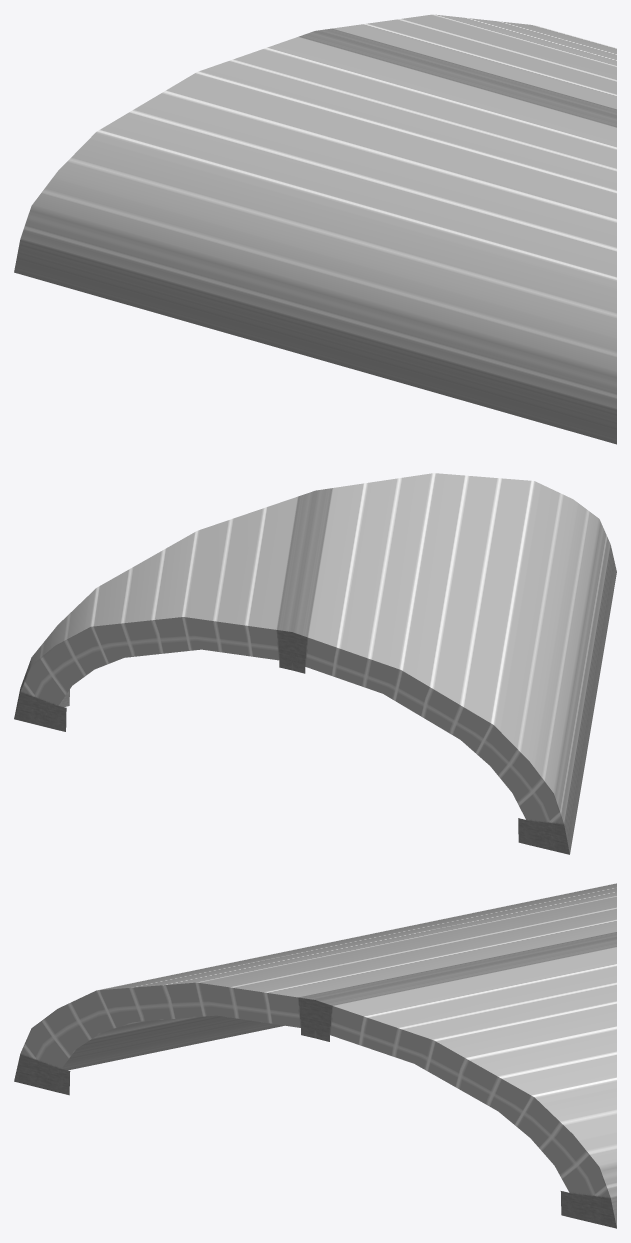
The model's file is Mall_Corner.fbx.
3 renders of one model, top to bottom at view 1: azimuth 30°, elevation 25°; view 2: azimuth 150°, elevation 25°; view 3: azimuth 270°, elevation 25°, orthographic. The views are drawn at different scales.
Visible parts, largest first — view 1: pasted__h; view 2: pasted__h; view 3: pasted__h.
Boxes of the visible parts, <box> form: pasted__h: <box>14,14,616,444</box>; pasted__h: <box>14,473,616,854</box>; pasted__h: <box>14,883,616,1228</box>.
Size of the model in its own units: 17.69 by 4.72 by 16.61.
3 materials, 3 textured.
